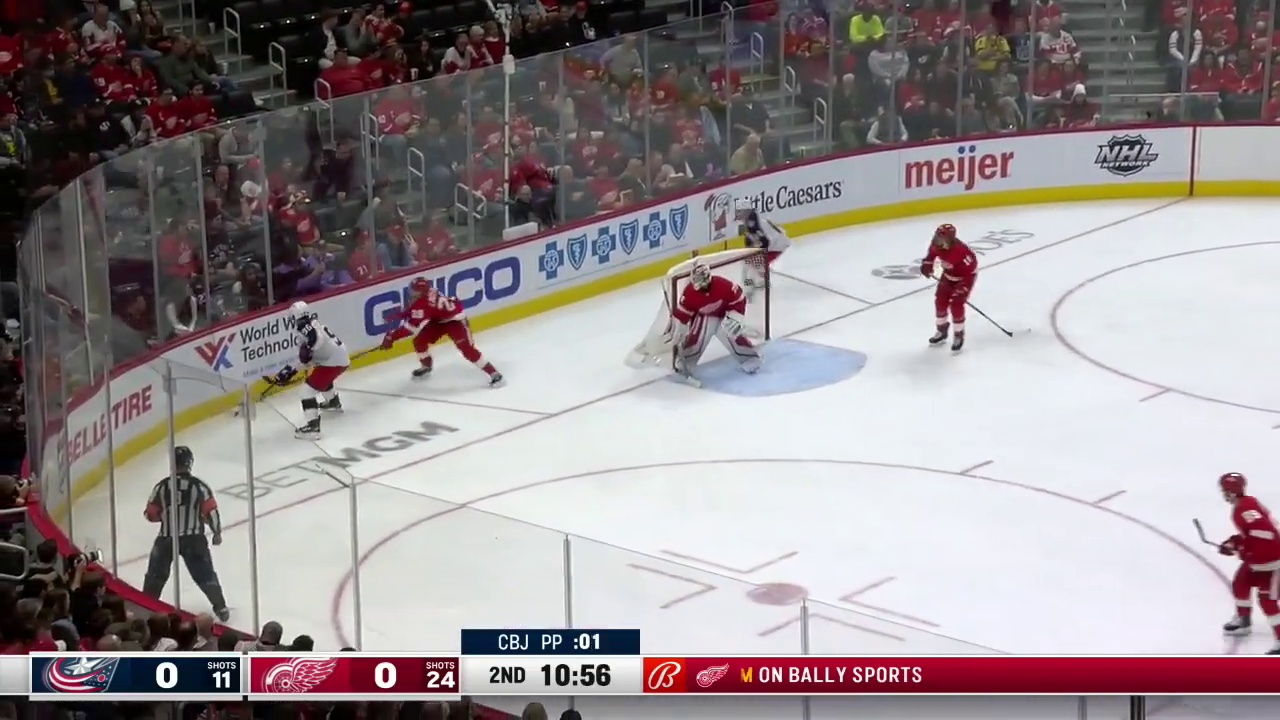goalie: (662, 264, 763, 380)
hockeyplayer: (379, 277, 504, 390), (1218, 472, 1280, 655), (273, 301, 350, 441), (921, 223, 978, 356), (744, 209, 790, 290)
referee: (143, 445, 231, 623)
